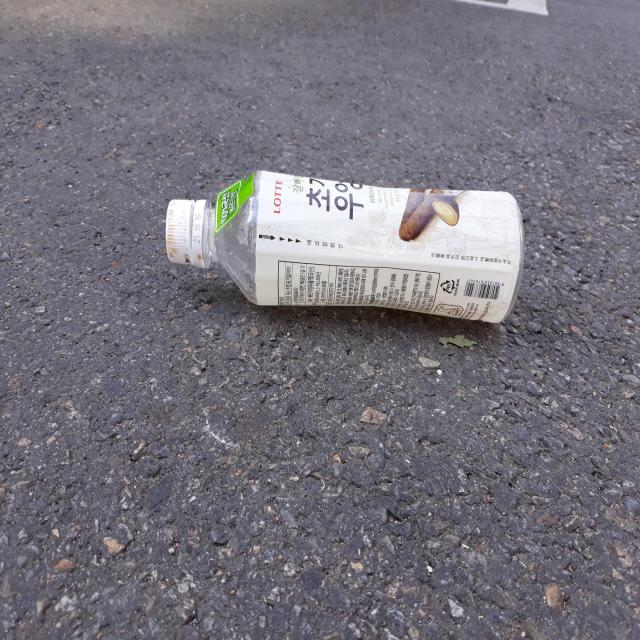plastic: (166, 170, 524, 322)
